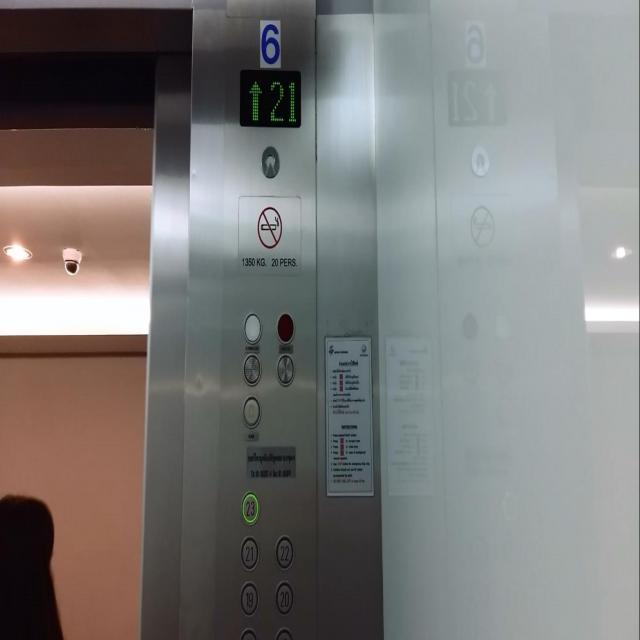19: (238, 579, 258, 618)
20: (273, 578, 293, 617)
21: (238, 534, 258, 573)
22: (274, 532, 294, 571)
23: (240, 490, 260, 525)
alarm: (242, 395, 260, 427)
empty: (242, 311, 262, 343), (275, 311, 294, 343)
led: (238, 68, 302, 128)
speaker: (242, 353, 261, 385), (275, 353, 294, 385)
unknown: (260, 145, 280, 177)
